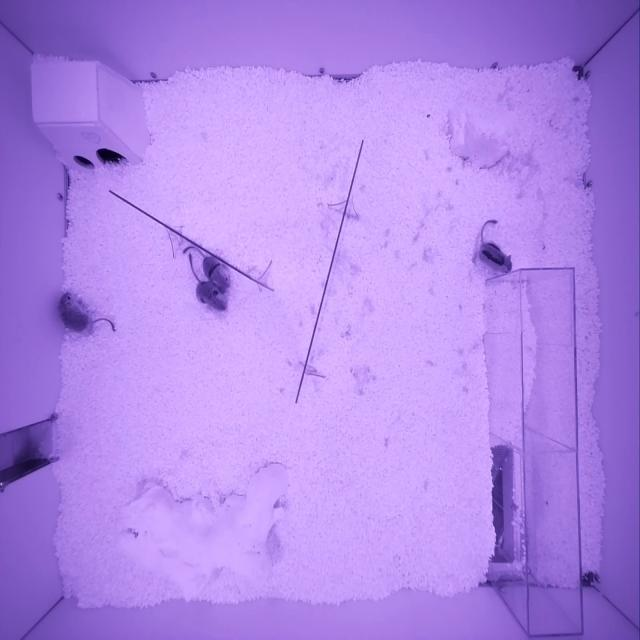pup_fluffy: (57, 292, 92, 333)
pup_h_stripe: (202, 256, 230, 289)
pup_spotted: (195, 281, 226, 311)
pup_v_stripe: (479, 242, 513, 275)
